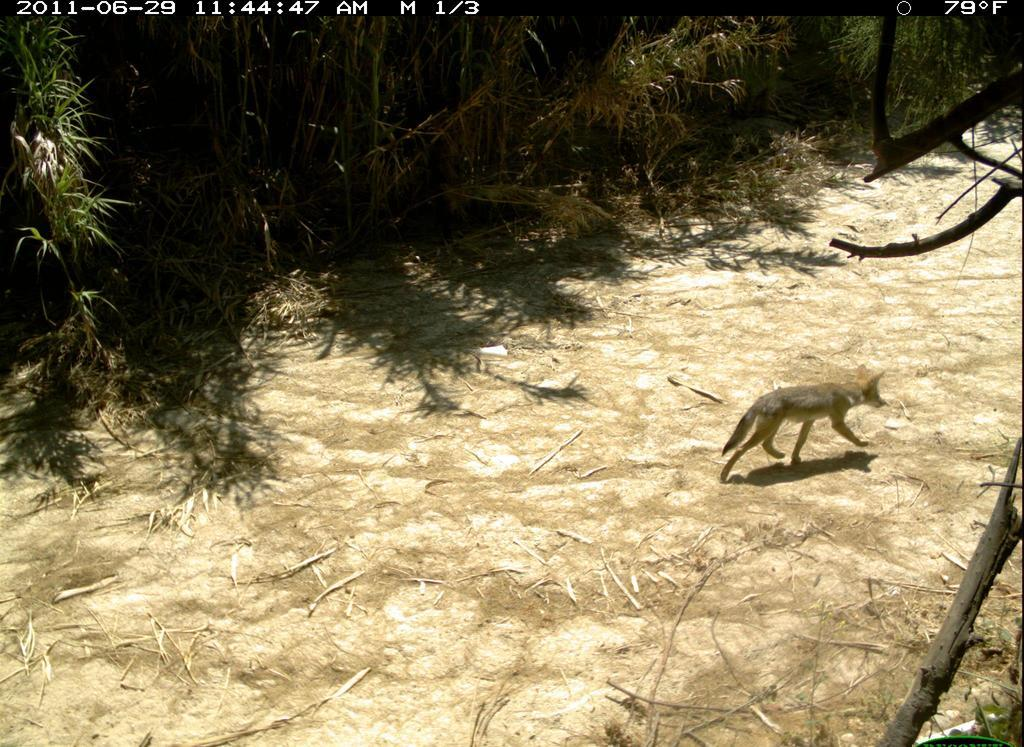coyote: (711, 362, 895, 493)
